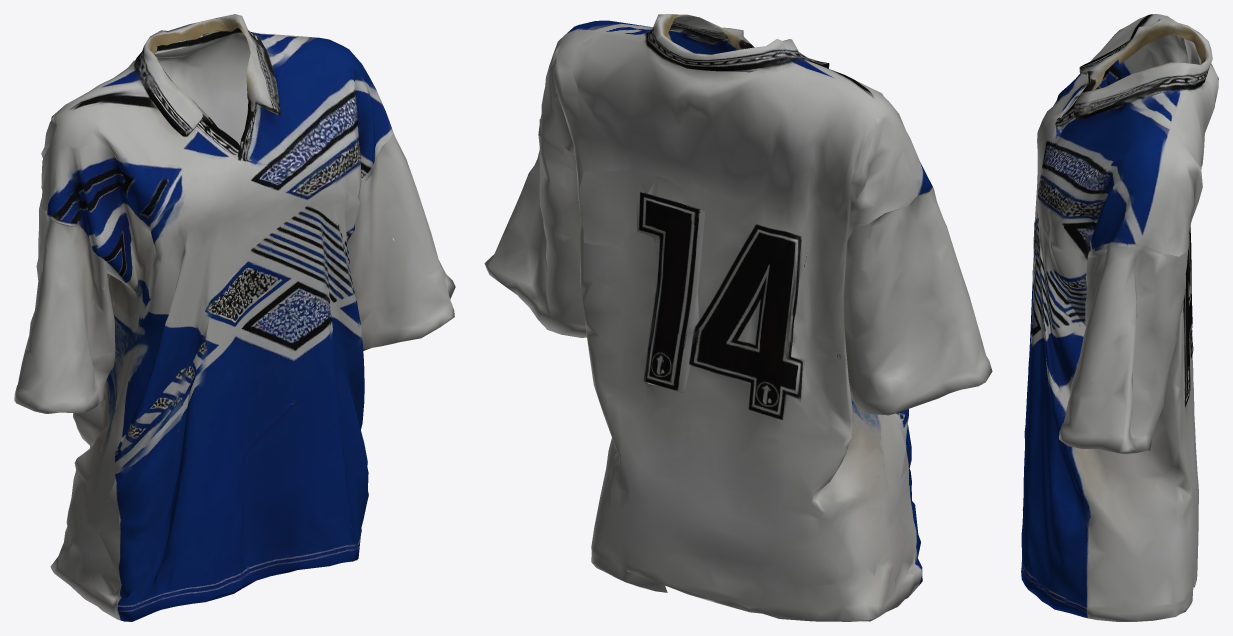
3 views of the same model, side by side, from view 1: azimuth 30°, elevation 25°; view 2: azimuth 150°, elevation 25°; view 3: azimuth 270°, elevation 25° (orthographic). The views are drawn at different scales.
Parts seen in each view (by area): view 1: tripo_part_0, tripo_part_2, tripo_part_3, tripo_part_7, tripo_part_6, tripo_part_11, tripo_part_13; view 2: tripo_part_0, tripo_part_2, tripo_part_3, tripo_part_8, tripo_part_6, tripo_part_12, tripo_part_7; view 3: tripo_part_0, tripo_part_3, tripo_part_6, tripo_part_11, tripo_part_10, tripo_part_8.
Boxes of the visible parts, box(x1,y1,x2,y2) form: tripo_part_0: box(40, 32, 393, 621); tripo_part_2: box(14, 205, 115, 413); tripo_part_3: box(347, 133, 455, 350); tripo_part_7: box(98, 321, 194, 597); tripo_part_6: box(133, 14, 280, 156); tripo_part_11: box(252, 89, 360, 188); tripo_part_13: box(205, 263, 258, 347); tripo_part_0: box(538, 20, 933, 621); tripo_part_2: box(843, 189, 992, 415); tripo_part_3: box(484, 119, 586, 337); tripo_part_8: box(636, 176, 704, 393); tripo_part_6: box(646, 14, 829, 72); tripo_part_12: box(579, 169, 646, 245); tripo_part_7: box(894, 409, 920, 563); tripo_part_0: box(1021, 14, 1218, 621); tripo_part_3: box(1059, 246, 1187, 454); tripo_part_6: box(1059, 16, 1212, 120); tripo_part_11: box(1042, 138, 1105, 215); tripo_part_10: box(1054, 271, 1086, 325); tripo_part_8: box(1184, 265, 1190, 405).
Size of the model in its own units: 0.7178 by 0.7994 by 0.272.
10 materials, 10 textured.
